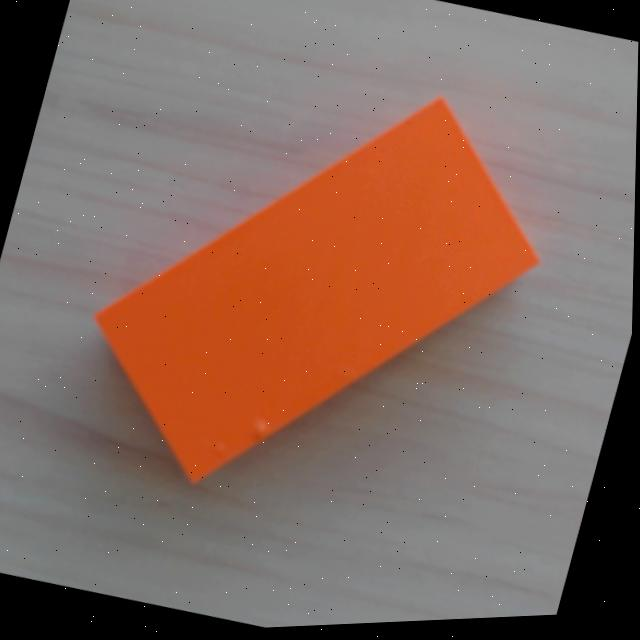Balok-Jingga-1005025: (89, 97, 545, 483)
